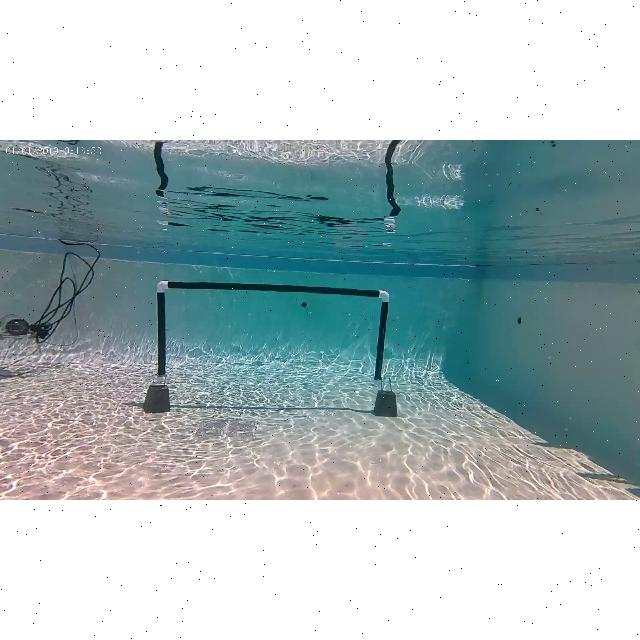prequal gate: (158, 279, 388, 386)
prequal gate leg l: (150, 277, 167, 409)
prequal gate leg r: (372, 288, 402, 414)
